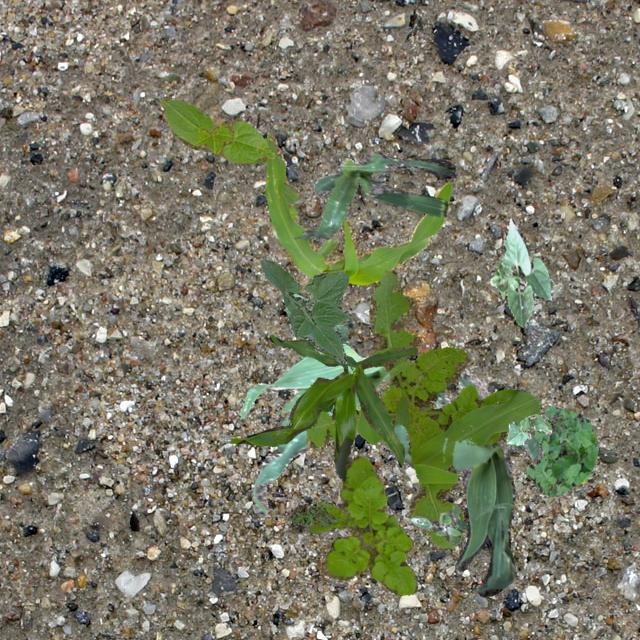crop: (238, 342, 450, 516), (402, 367, 542, 596), (264, 130, 451, 284), (229, 334, 416, 481), (296, 150, 454, 238), (260, 256, 350, 362), (158, 96, 274, 164), (488, 218, 552, 326), (284, 292, 350, 346), (506, 414, 550, 444)
weed: (306, 268, 540, 546), (308, 454, 416, 594), (526, 404, 598, 496), (409, 504, 466, 544), (288, 504, 336, 528)
